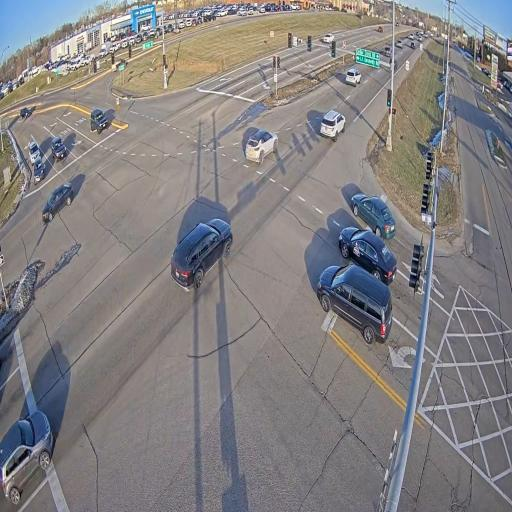sedan: (338, 227, 397, 285), (351, 193, 395, 239), (42, 183, 74, 221), (378, 27, 383, 31)
suv: (0, 410, 53, 504), (171, 218, 232, 289), (245, 129, 278, 163), (321, 110, 345, 141), (90, 109, 108, 134), (51, 136, 67, 162), (34, 156, 45, 184), (346, 68, 361, 86), (29, 141, 39, 164), (322, 33, 334, 44), (20, 107, 31, 119), (385, 46, 391, 56), (396, 39, 403, 47), (394, 61, 398, 72), (396, 19, 400, 28), (411, 41, 415, 47), (409, 34, 413, 39), (418, 36, 422, 41)
van: (317, 265, 392, 344)
